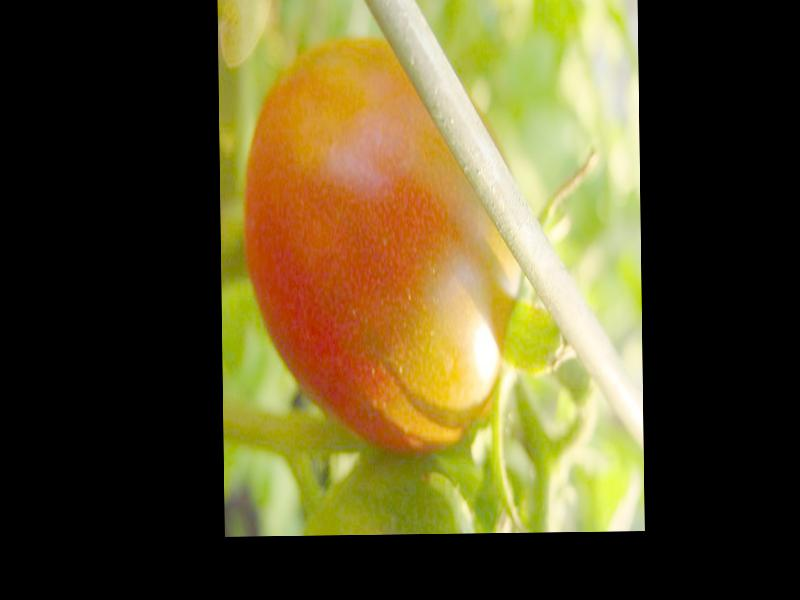Tomato: (242, 42, 522, 449)
